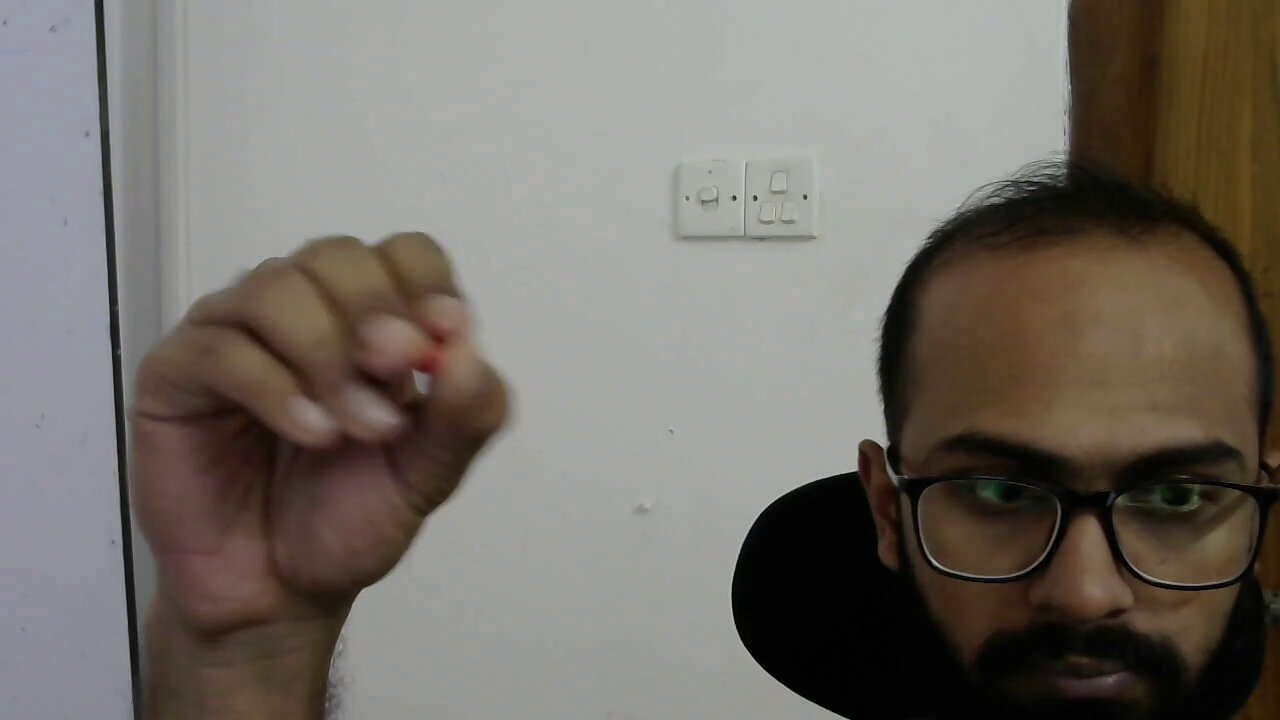pointer: (134, 229, 516, 563)
